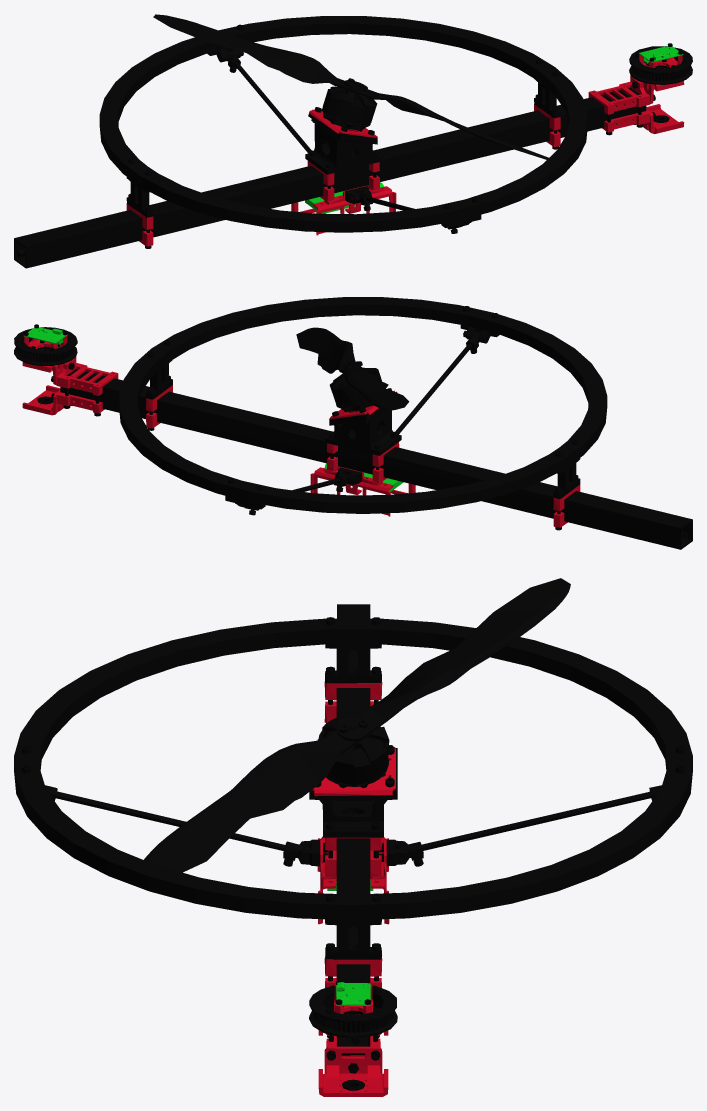
The model's file is tilt_20deg_fix_joint_link3.dae.
The picture shows the model from 3 angles, top to bottom: view 1: azimuth 30°, elevation 25°; view 2: azimuth 150°, elevation 25°; view 3: azimuth 270°, elevation 25°; orthographic projection. The views are drawn at different scales.
Parts seen in each view (by area): view 1: link3_fix_joint_black_part, link3_fix_joint_red_part, link3_fix_joint_green; view 2: link3_fix_joint_black_part, link3_fix_joint_red_part, link3_fix_joint_green; view 3: link3_fix_joint_black_part, link3_fix_joint_red_part, link3_fix_joint_green.
Boxes of the visible parts, <box> form: link3_fix_joint_black_part: <box>14,14,692,268</box>; link3_fix_joint_red_part: <box>126,54,684,246</box>; link3_fix_joint_green: <box>305,46,683,213</box>; link3_fix_joint_black_part: <box>14,297,692,549</box>; link3_fix_joint_red_part: <box>22,335,580,527</box>; link3_fix_joint_green: <box>23,327,403,491</box>; link3_fix_joint_black_part: <box>14,578,692,1090</box>; link3_fix_joint_red_part: <box>311,681,395,1096</box>; link3_fix_joint_green: <box>327,880,373,1005</box>.
Bounding box in the file's own units: 0.6329 × 0.3997 × 0.1563.
